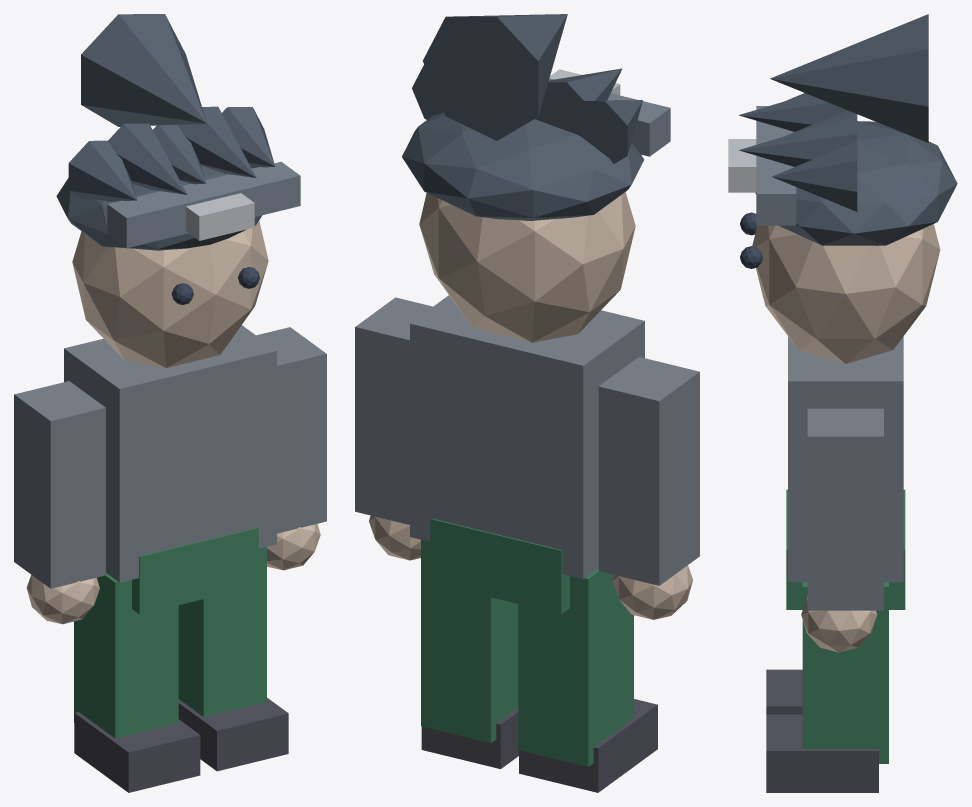
The model's file is shikamaru.glb.
3 views of the same model, side by side, from view 1: azimuth 30°, elevation 25°; view 2: azimuth 150°, elevation 25°; view 3: azimuth 270°, elevation 25° (orthographic). The views are drawn at different scales.
Parts seen in each view (by area): view 1: part_000, part_010, part_002, part_004, part_021, part_008, part_006, part_001, part_019, part_005, part_009, part_013 (+8 smaller); view 2: part_000, part_010, part_002, part_004, part_013, part_008, part_021, part_006, part_001, part_005, part_014, part_015 (+5 smaller); view 3: part_010, part_006, part_000, part_013, part_021, part_008, part_009, part_018, part_019, part_017, part_007, part_015 (+3 smaller).
Part boxes in pixels (box(x1,y1,x2,y2)): part_000: box(64, 325, 276, 582); part_010: box(72, 221, 268, 367); part_002: box(14, 381, 105, 588); part_004: box(74, 573, 178, 738); part_021: box(81, 14, 206, 126); part_008: box(178, 547, 266, 716); part_006: box(256, 327, 326, 533); part_001: box(132, 527, 258, 614); part_019: box(107, 161, 300, 248); part_005: box(74, 712, 200, 792); part_009: box(178, 698, 288, 771); part_013: box(56, 165, 262, 250); part_000: box(410, 295, 644, 579); part_010: box(419, 192, 635, 342); part_002: box(598, 357, 699, 585); part_004: box(518, 568, 633, 766); part_013: box(402, 112, 644, 220); part_008: box(421, 539, 518, 743); part_021: box(423, 14, 567, 140); part_006: box(355, 297, 432, 524); part_001: box(430, 518, 569, 614); part_005: box(519, 699, 657, 792); part_014: box(564, 100, 642, 163); part_015: box(535, 68, 622, 139); part_010: box(752, 224, 940, 363); part_006: box(807, 408, 883, 610); part_000: box(788, 336, 903, 582); part_013: box(755, 121, 957, 245); part_021: box(770, 14, 928, 142); part_008: box(802, 582, 888, 763); part_009: box(766, 714, 878, 792); part_018: box(772, 141, 857, 211); part_019: box(756, 106, 796, 225); part_017: box(739, 115, 857, 166); part_007: box(801, 596, 877, 652); part_015: box(739, 94, 846, 131).
Bounding box in the file's own units: 1.03 × 2.44 × 0.6928.
